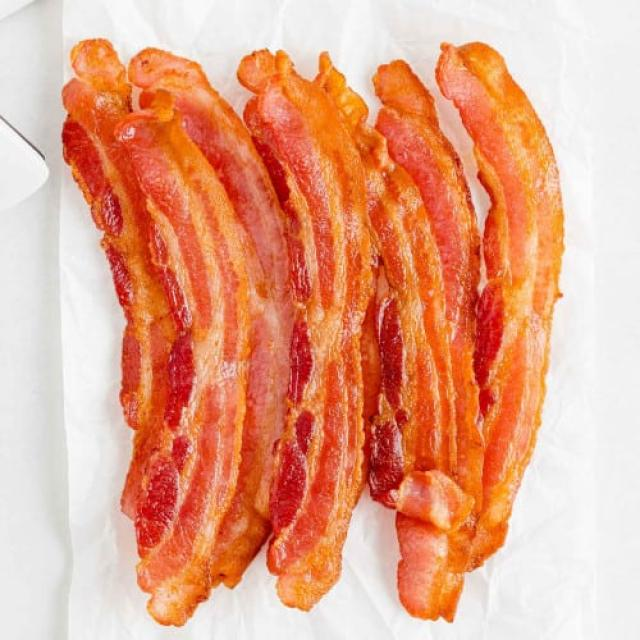Bacon: (62, 40, 288, 625), (239, 50, 372, 609), (356, 61, 484, 619), (436, 42, 564, 568), (374, 61, 480, 429)
